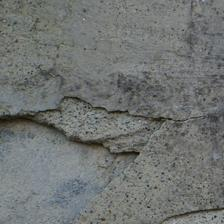Crack: (73, 131, 160, 222), (1, 91, 166, 124), (34, 117, 142, 160), (152, 204, 224, 224)
